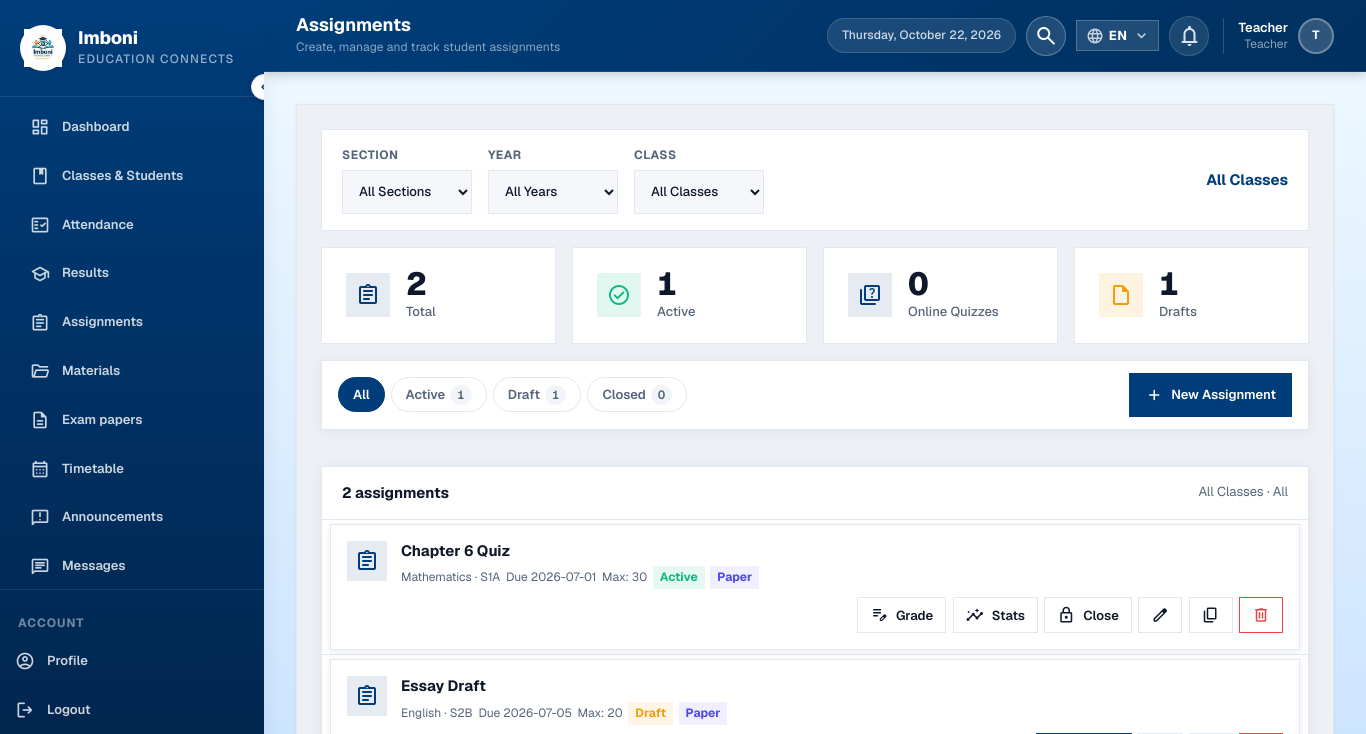
TeacherAssignments › filters to only draft assignments when the Draft tab is clicked
Expected: the text "Chapter 6 Quiz" is shown, x1=401 y1=541 x2=510 y2=560
Step 1. Click the button "Draft 1" → (537,395), box x1=493 y1=377 x2=582 y2=412
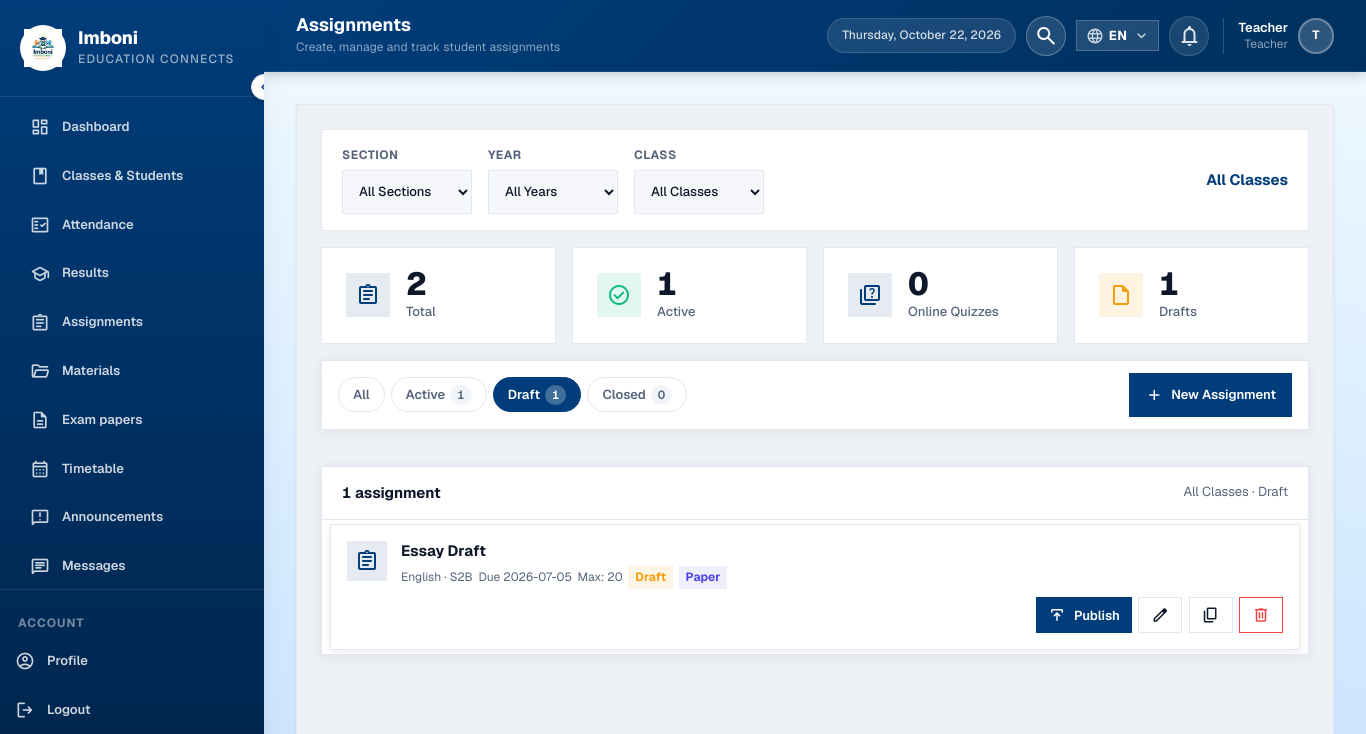
Expected: the text "Essay Draft" is shown, x1=401 y1=541 x2=486 y2=560
Result: the text "Chapter 6 Quiz" is gone
